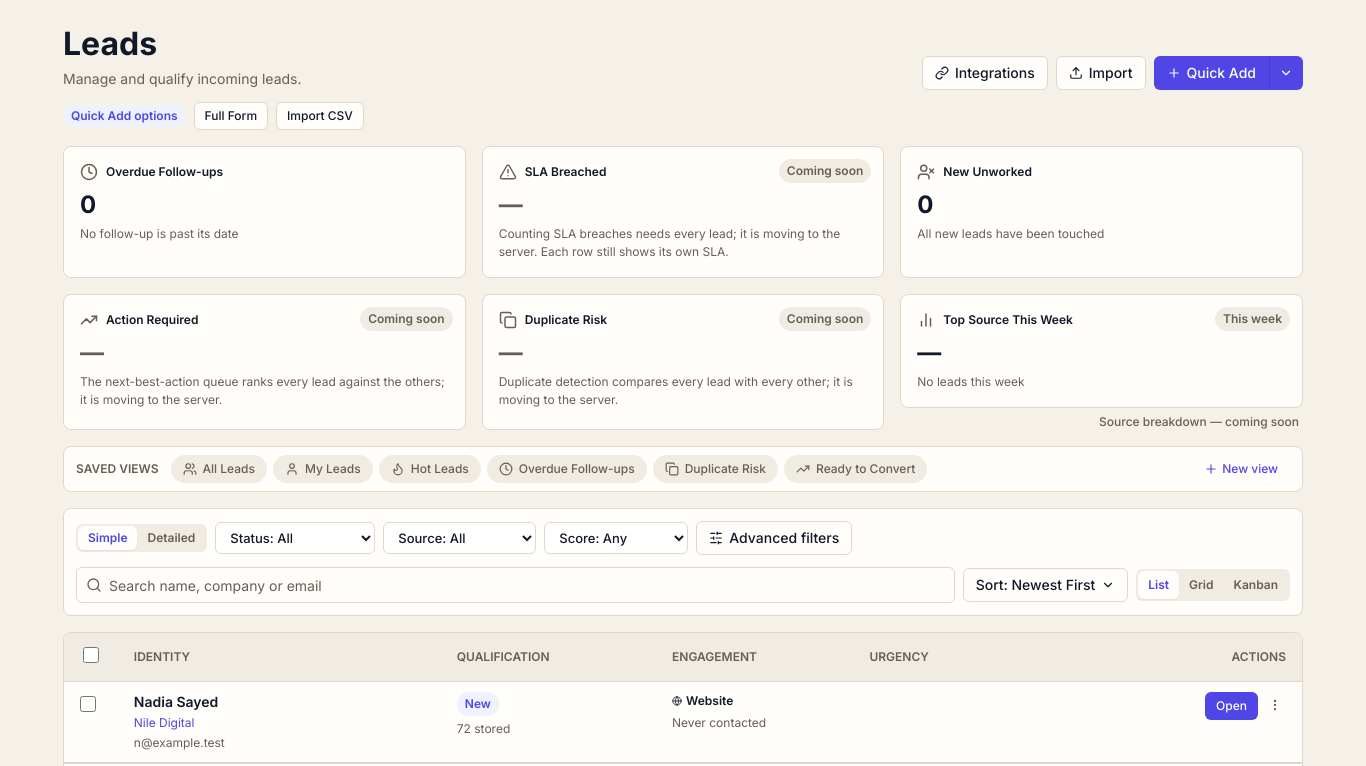
Test: LeadsPage — docked panel and honest toasts (slice 3B-2) › opening a lead docks the "Selected lead" panel beside the list (no overlay)
What coordinates should you click on to do the following:
click the button with aria-label "Open Nadia Sayed"
I would click on:
 (1232, 706)
Its box is x1=1205 y1=692 x2=1258 y2=720.
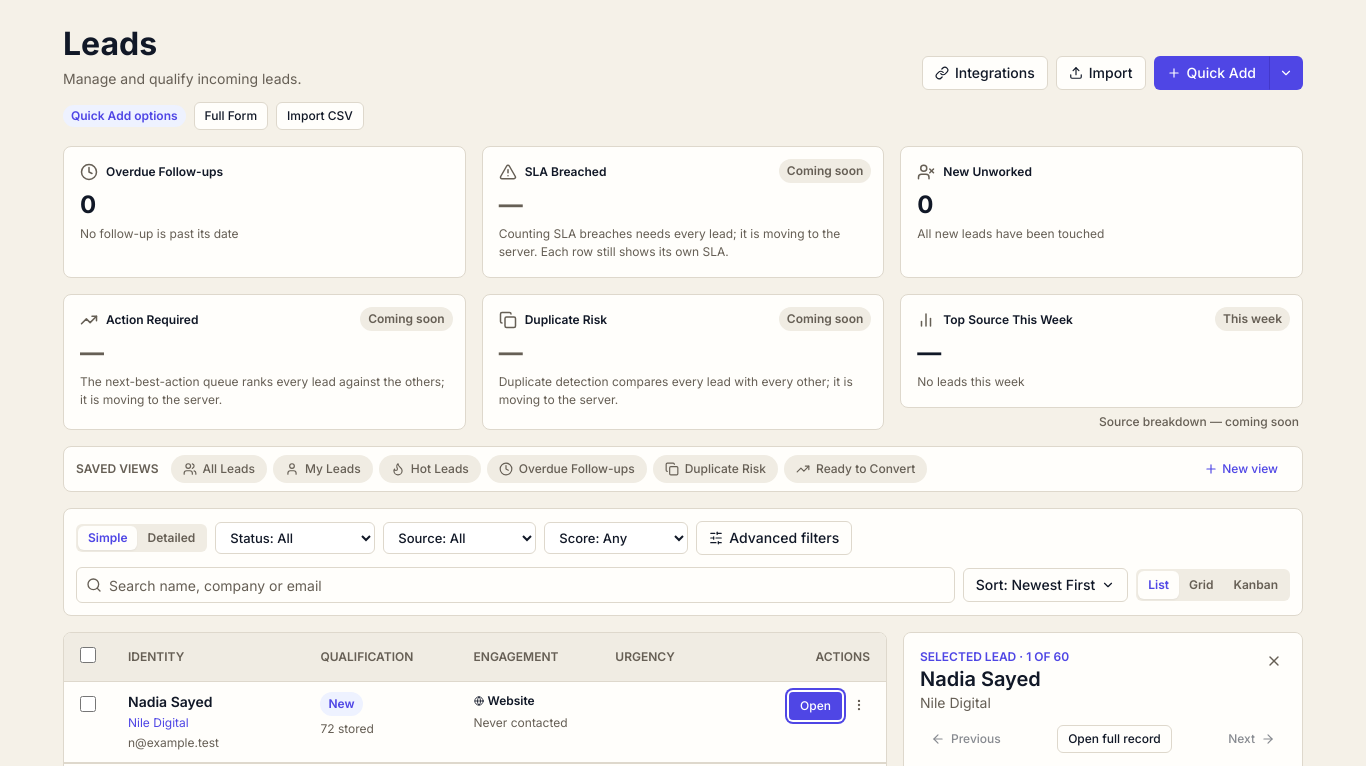
Check: the text "Selected lead · 1 of 60" is shown, box x1=920 y1=649 x2=1069 y2=665
